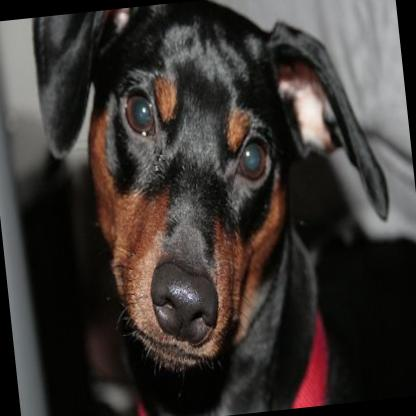miniature_pinscher: (25, 0, 407, 416)
